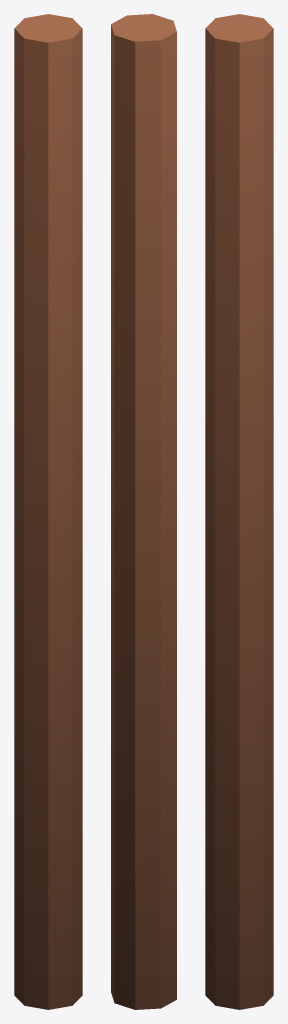
The model's file is wooden post.fbx.
3 views of the same model, side by side, from view 1: azimuth 90°, elevation 25°; view 2: azimuth 210°, elevation 25°; view 3: azimuth 270°, elevation 25° (orthographic).
Parts seen in each view (by area): view 1: wooden post; view 2: wooden post; view 3: wooden post.
Part boxes in pixels (x1,y1,x2,y2): wooden post: (14, 14, 82, 1009); wooden post: (111, 14, 176, 1009); wooden post: (205, 14, 273, 1009).
Bounding box in the file's own units: 19.9 × 312 × 19.9.
